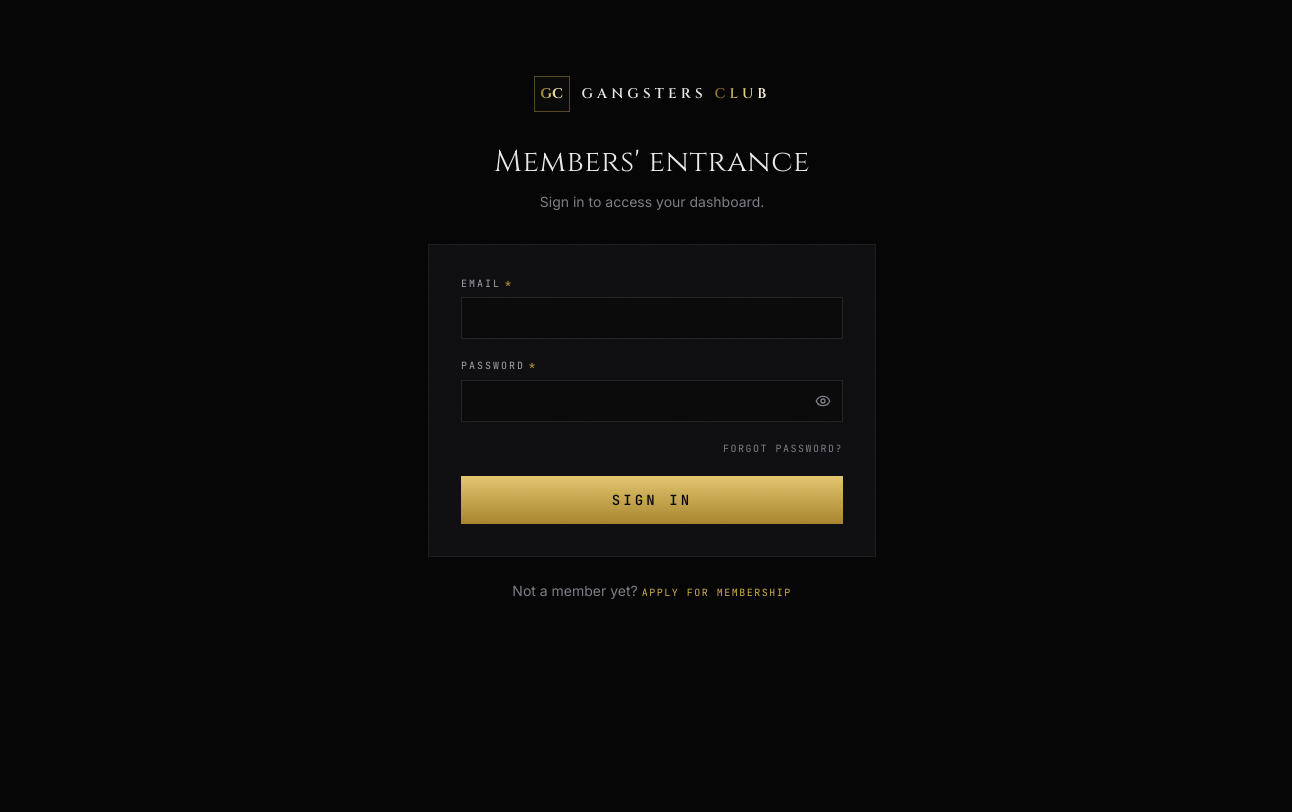
Test: sign-in redirect › sends a member to the member dashboard
Type "owner@gangstersclub.com" into the field labelled "Email*" at (652, 318), box [461,297,843,339]
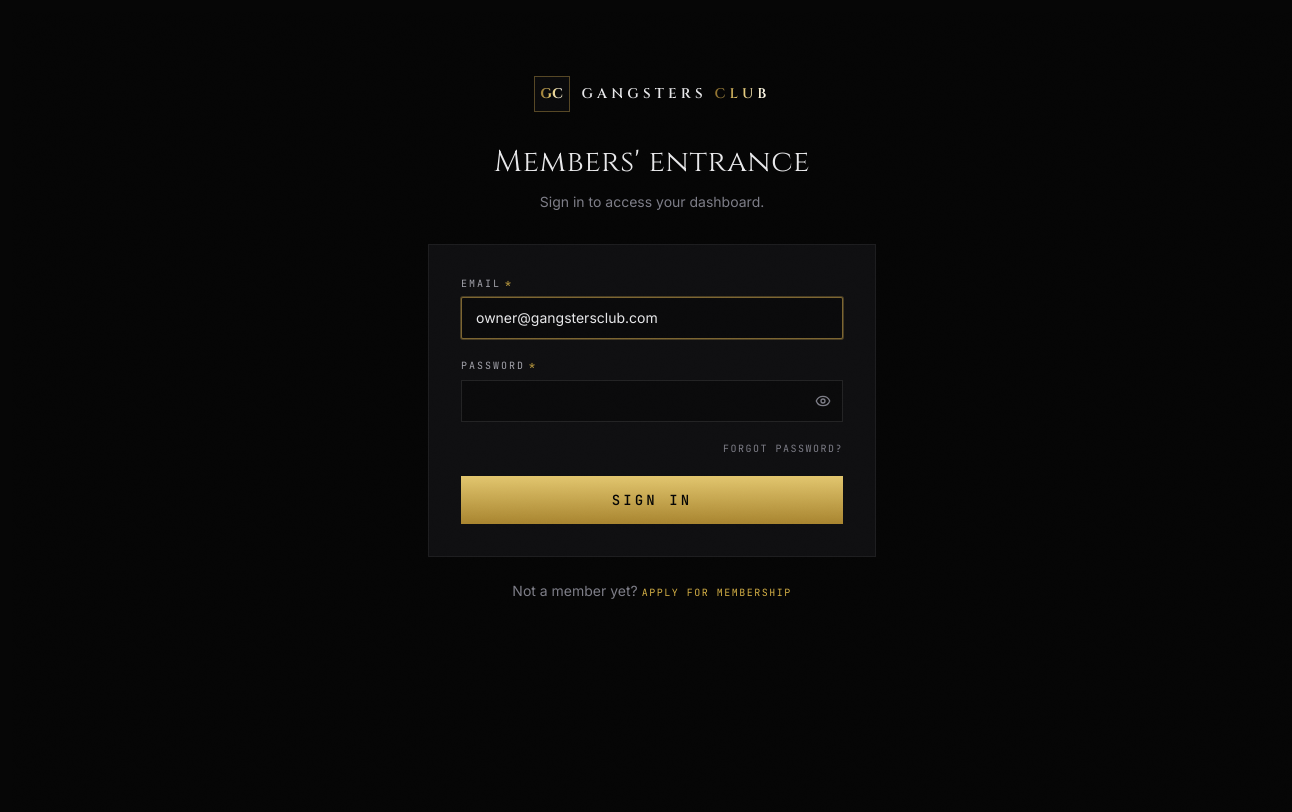
Type "secret-password" into the password field labelled "Password*" at (652, 401), box [461,380,843,422]
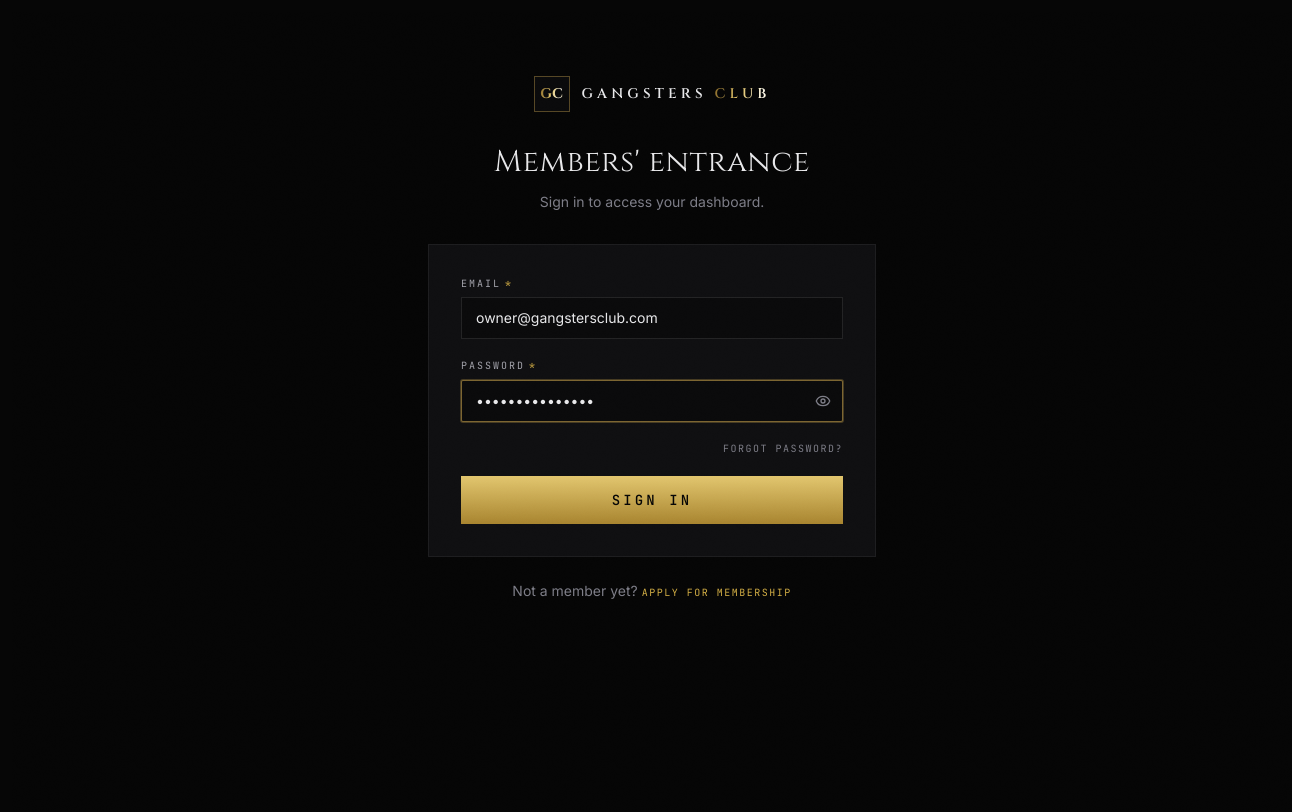
Click the button "Sign In" at (652, 500), box [461,476,843,524]
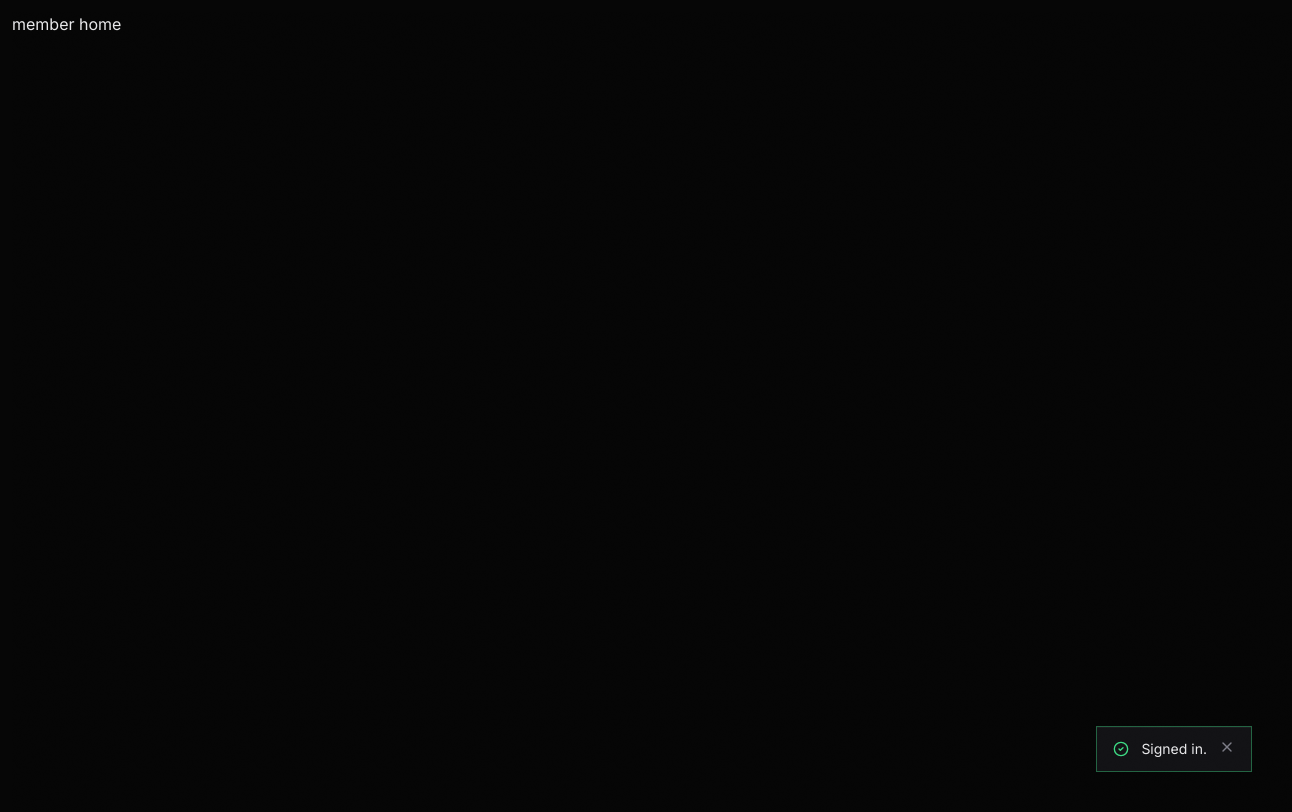
Expected: the text "member home" is shown, [12,14,121,34]
